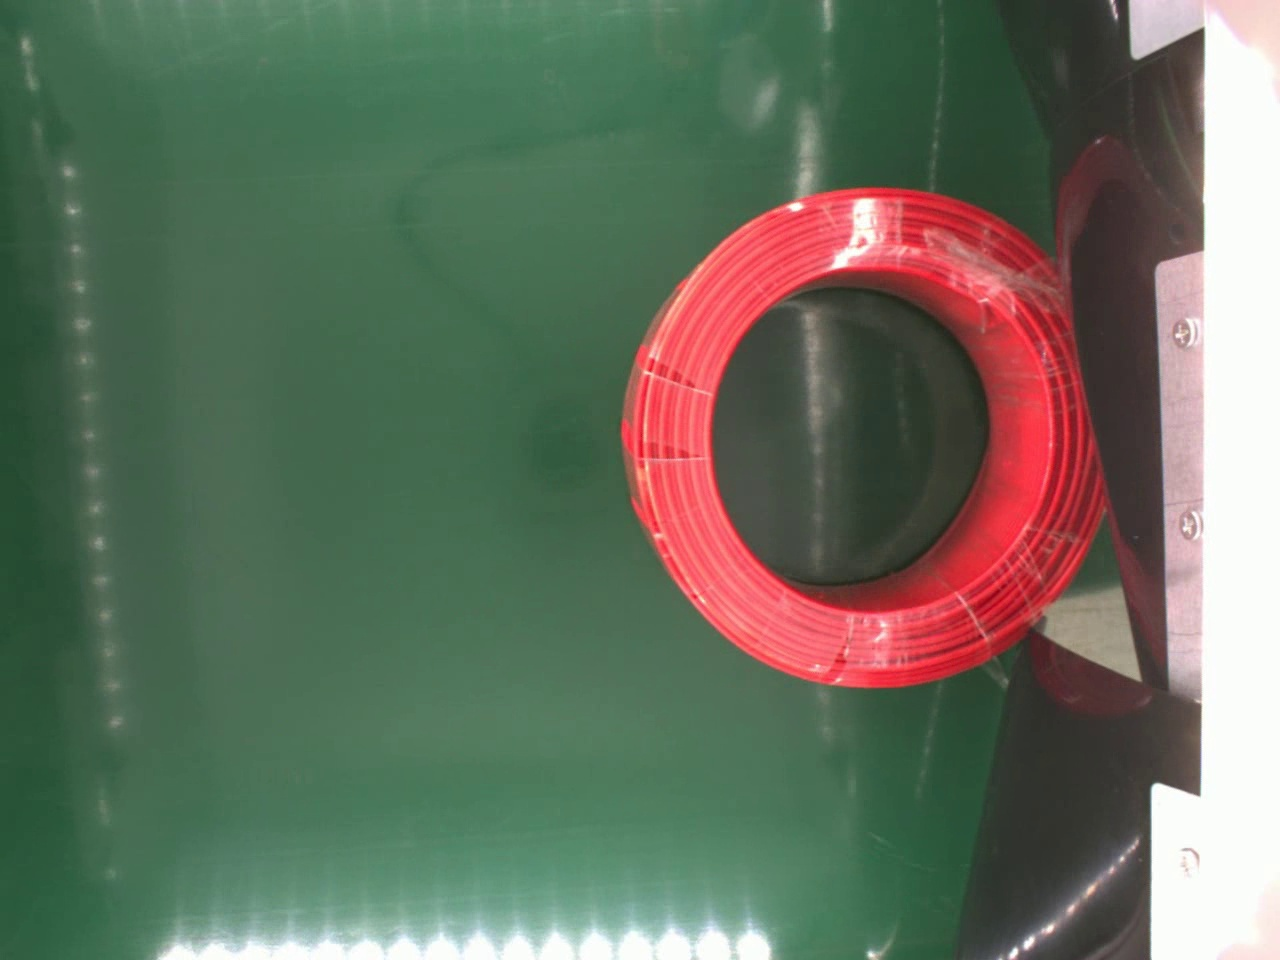red: (620, 186, 1108, 690)
